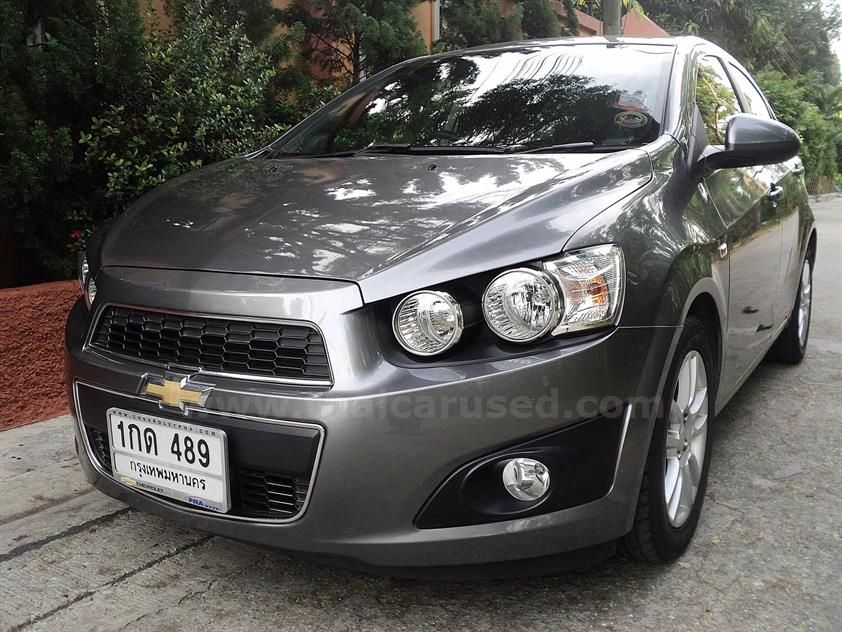sedan: (61, 32, 822, 585)
